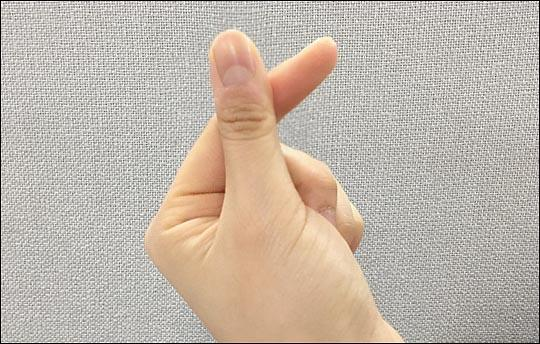heart gesture: (206, 26, 338, 159)
